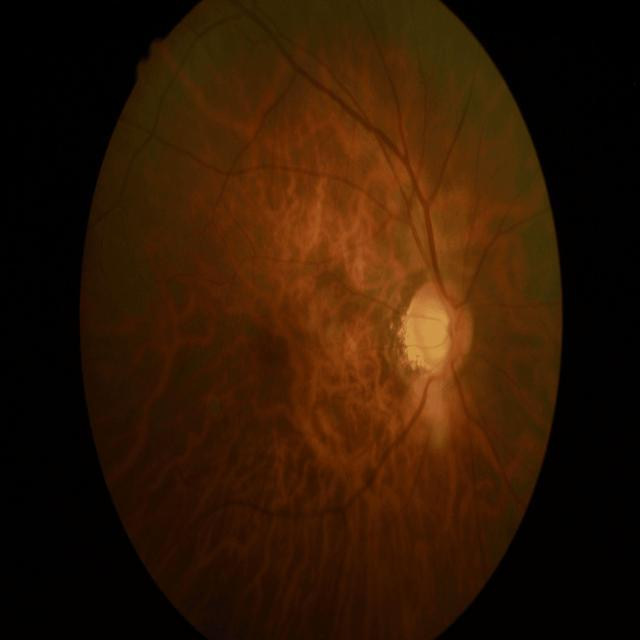cup: (417, 294, 463, 366)
disk: (400, 278, 474, 376)
